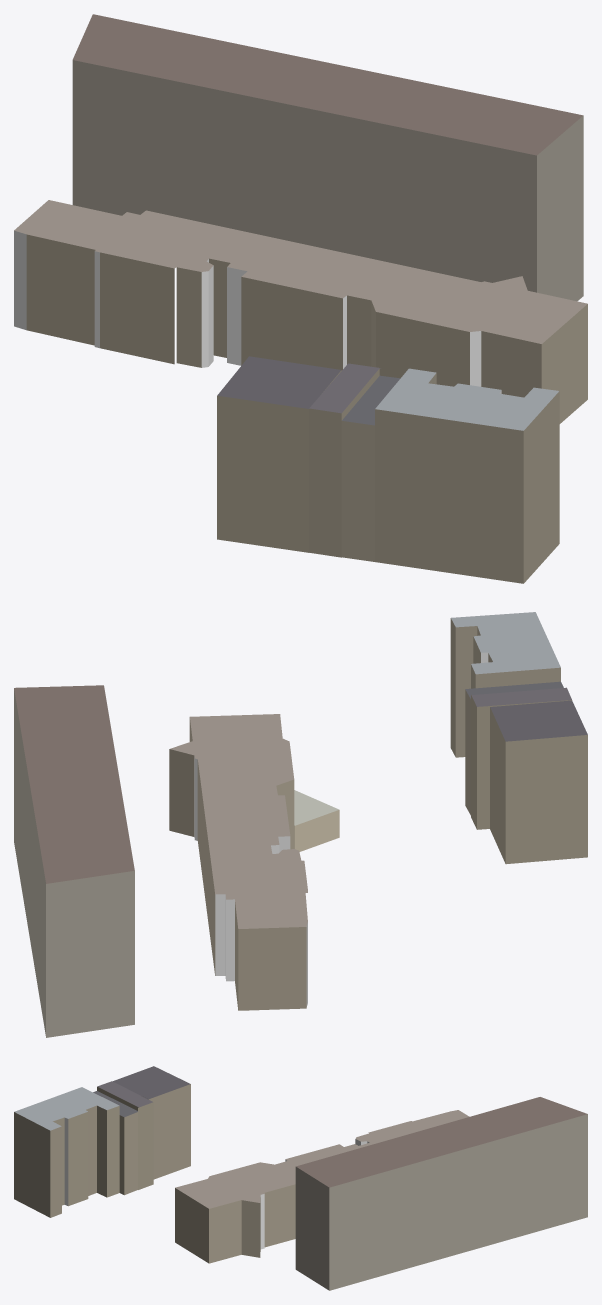
The picture shows the model from 3 angles, top to bottom: view 1: azimuth 30°, elevation 25°; view 2: azimuth 150°, elevation 25°; view 3: azimuth 270°, elevation 25°; orthographic projection. The views are drawn at different scales.
Parts seen in each view (by area): view 1: tuile; view 2: tuile; view 3: tuile.
Boxes of the visible parts, bbox=[...] form: tuile: bbox=[14, 14, 587, 583]; tuile: bbox=[14, 612, 587, 1037]; tuile: bbox=[14, 1066, 587, 1290].
Bounding box in the file's own units: 75.19 × 25.51 × 126.
